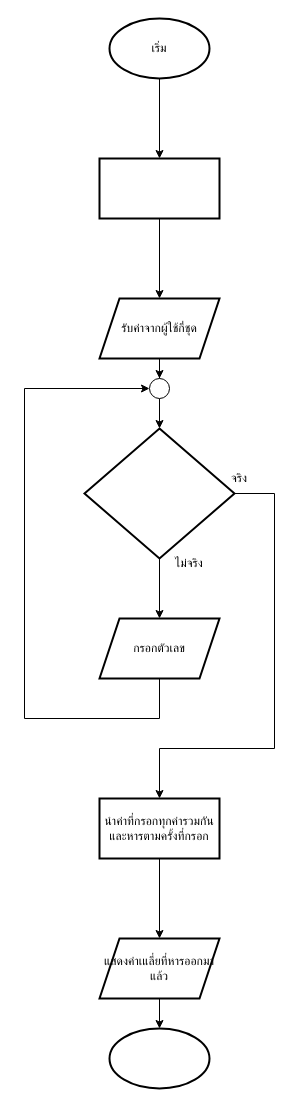
Image size: 300x1106. Some labels were removed from this diagram. Here are the shapes that lost their labels. From the top down, the box of each, then its label:
(98, 157, 220, 219): กำหนดตัวแปรมา2ตัว ไว้รับค่าจากผู้ใช้กี่ตัว แลรับค่าตัวเลข
(83, 427, 235, 559): วนครบรอบตามที่กรอกยัง
(108, 1027, 210, 1089): จบ
